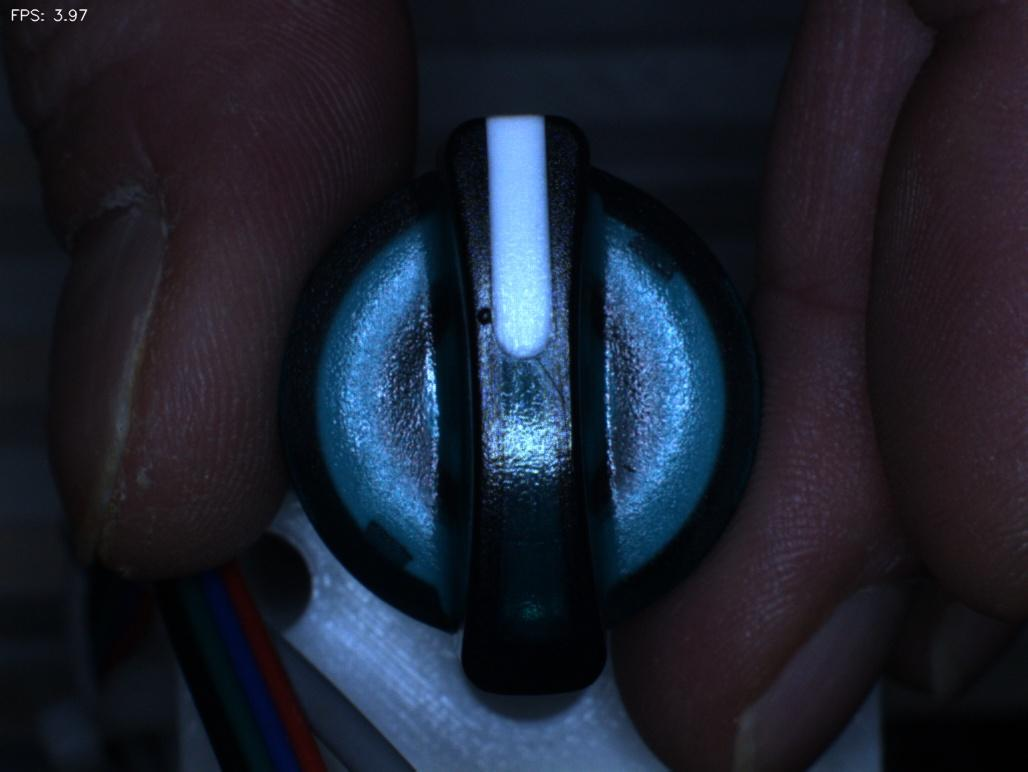Choc: (448, 282, 524, 358)
